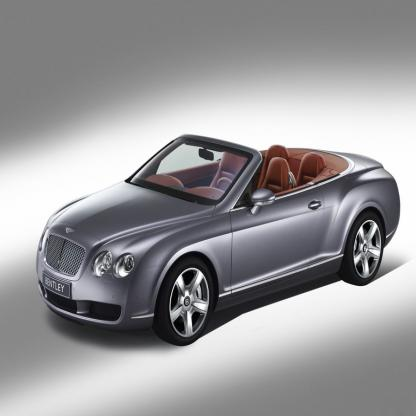Car: (37, 135, 402, 347)
